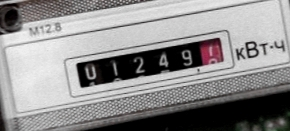0: (81, 60, 97, 82)
1: (106, 57, 118, 77)
2: (130, 54, 145, 75)
4: (154, 50, 168, 70)
7: (201, 38, 216, 59)
9: (177, 46, 193, 69)
screen: (53, 29, 233, 97)
